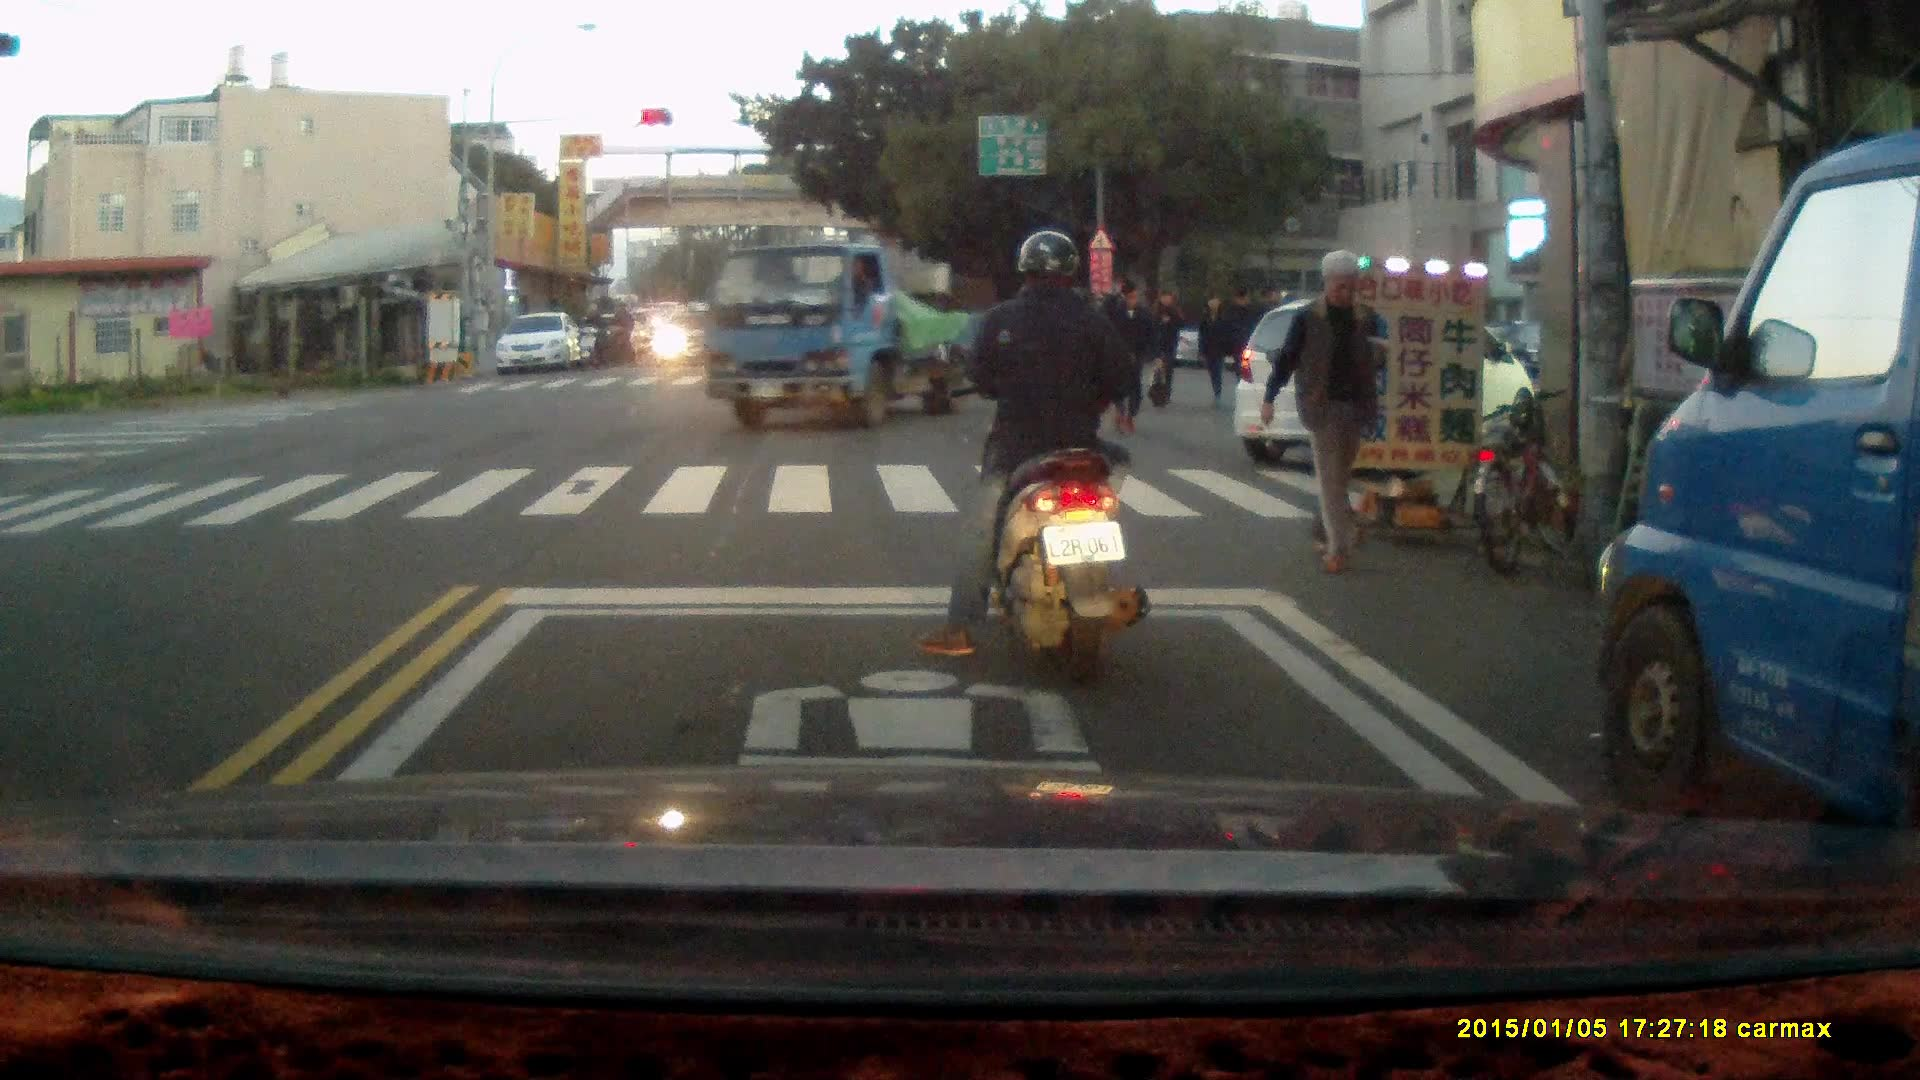pedestrian: (1262, 246, 1390, 574), (1094, 273, 1157, 437), (1219, 281, 1260, 403), (1148, 288, 1189, 412), (1192, 288, 1230, 413)
rider: (918, 226, 1150, 691), (577, 301, 612, 372), (600, 296, 634, 365)
vehicle: (1596, 120, 1920, 901), (702, 239, 1003, 428), (1236, 303, 1533, 462), (493, 311, 584, 378), (652, 299, 737, 370)
